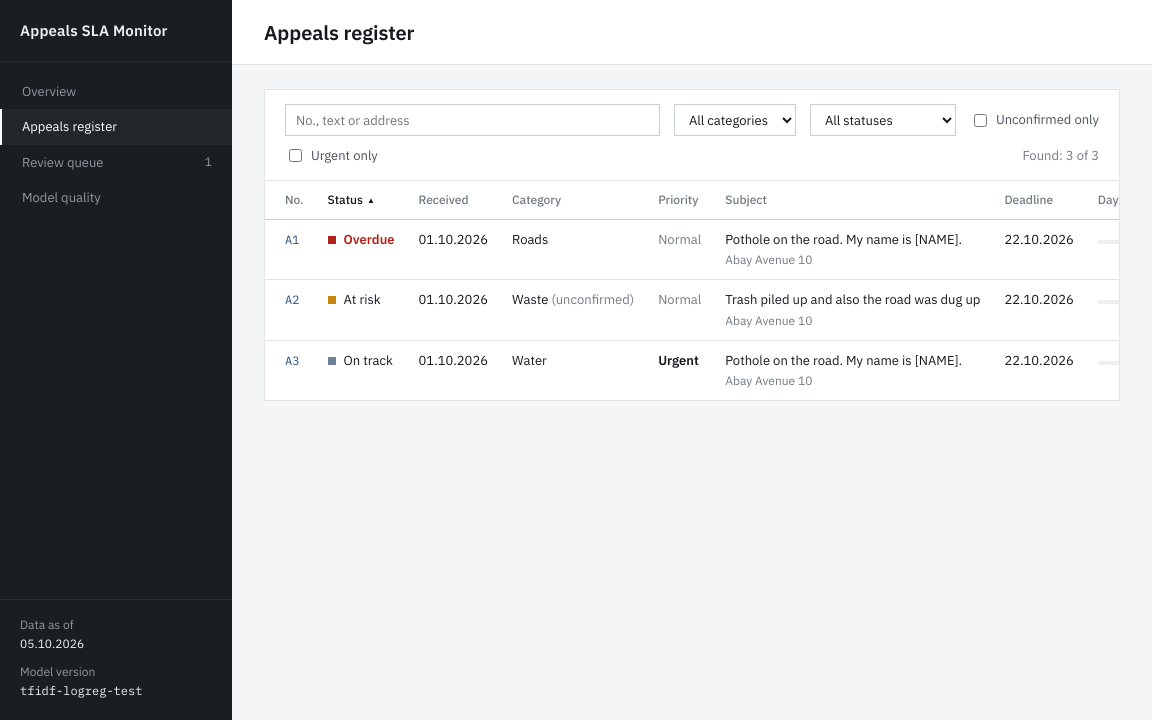
App › opens the appeal record from the register
Click the button "A3" at (292, 360), box [285,352,299,370]
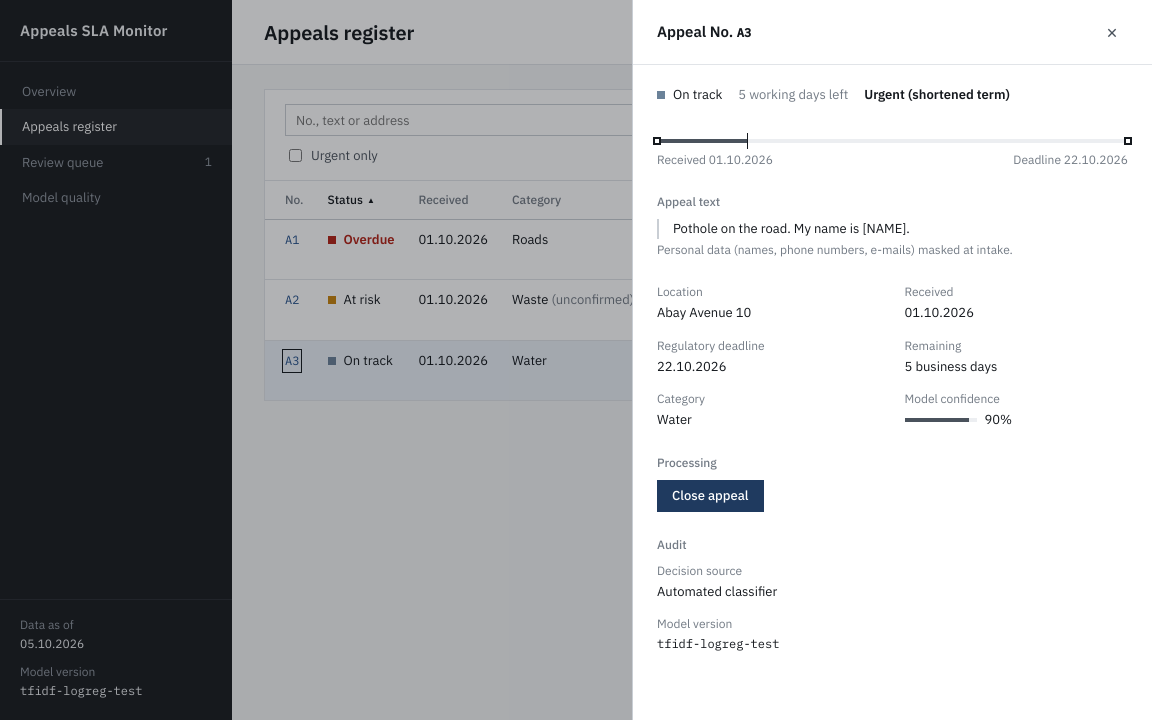
Expected: the heading "Appeal text" is shown, [657,194,720,208]
Press Escape
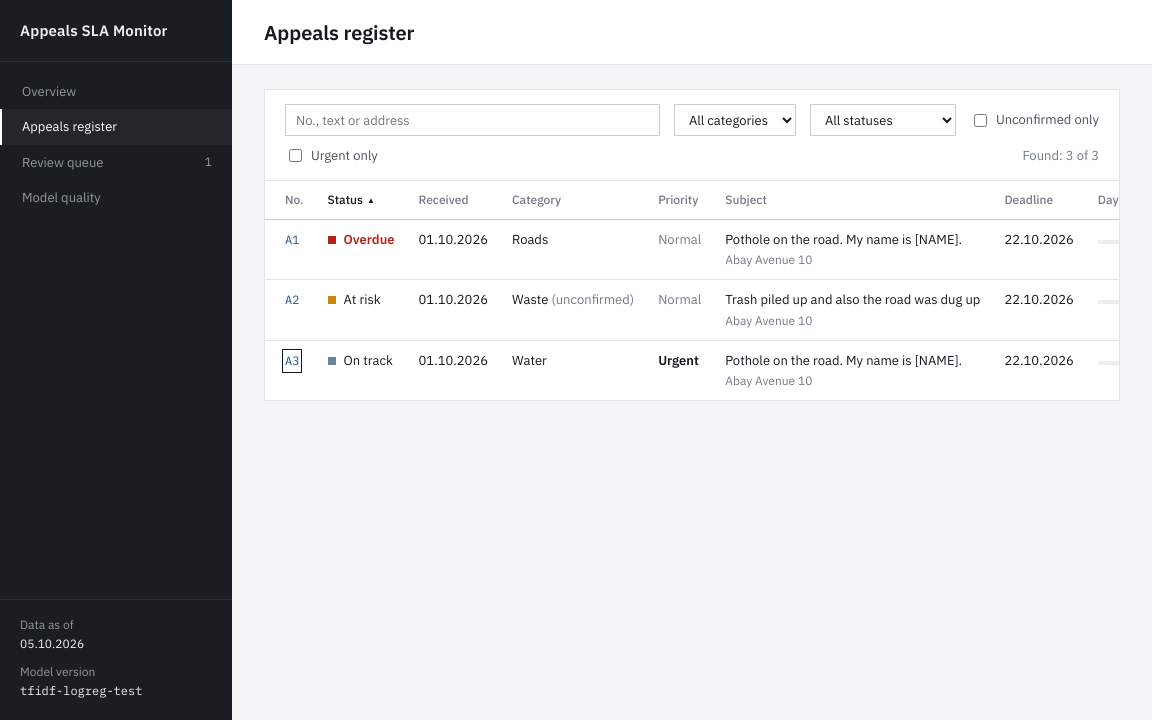
Expected: the dialog is gone
